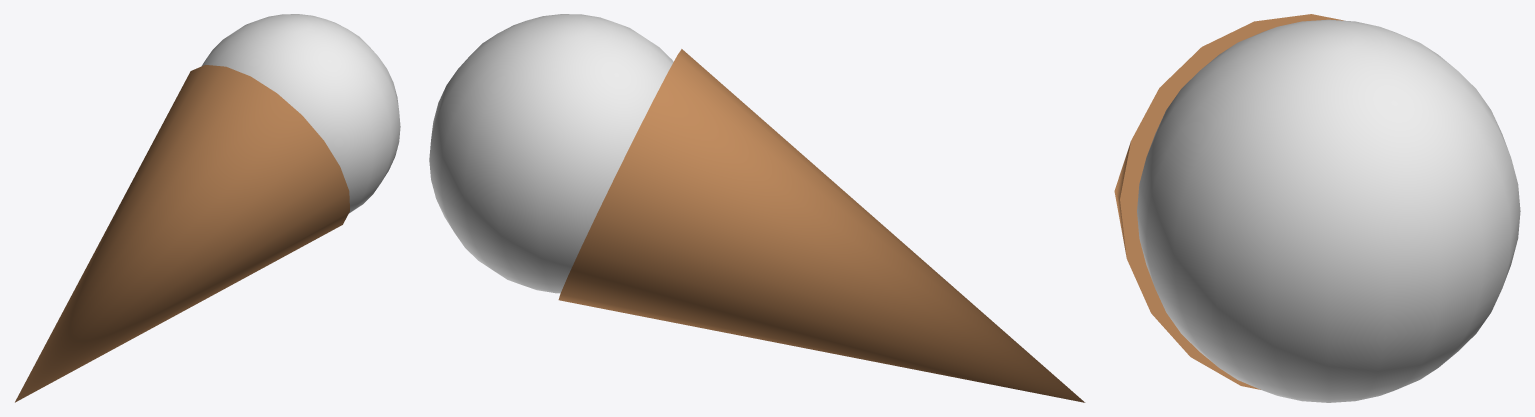
Rendered from Ice_Cream_Debris.fbx.
3 views of the same model, side by side, from view 1: azimuth 30°, elevation 25°; view 2: azimuth 150°, elevation 25°; view 3: azimuth 270°, elevation 25° (orthographic). The views are drawn at different scales.
Parts seen in each view (by area): view 1: pSphere2; view 2: pSphere2; view 3: pSphere2.
Part boxes in pixels (x1,y1,x2,y2): pSphere2: [15, 14, 400, 402]; pSphere2: [429, 14, 1085, 402]; pSphere2: [1114, 14, 1520, 402].
Size of the model in its own units: 4.62 by 2.57 by 2.12.
